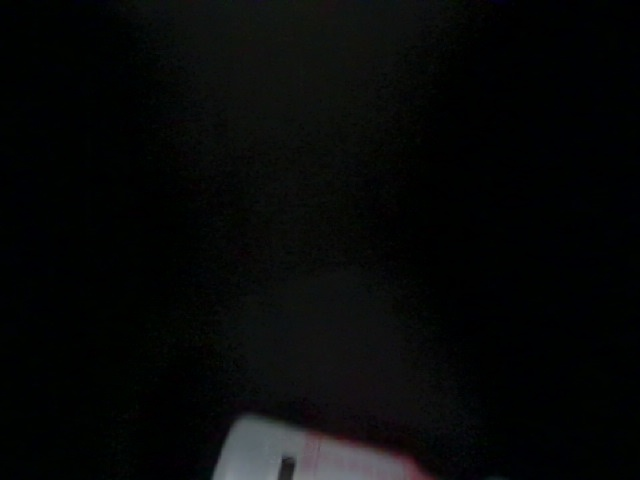CYLJ: (352, 438, 515, 480)
